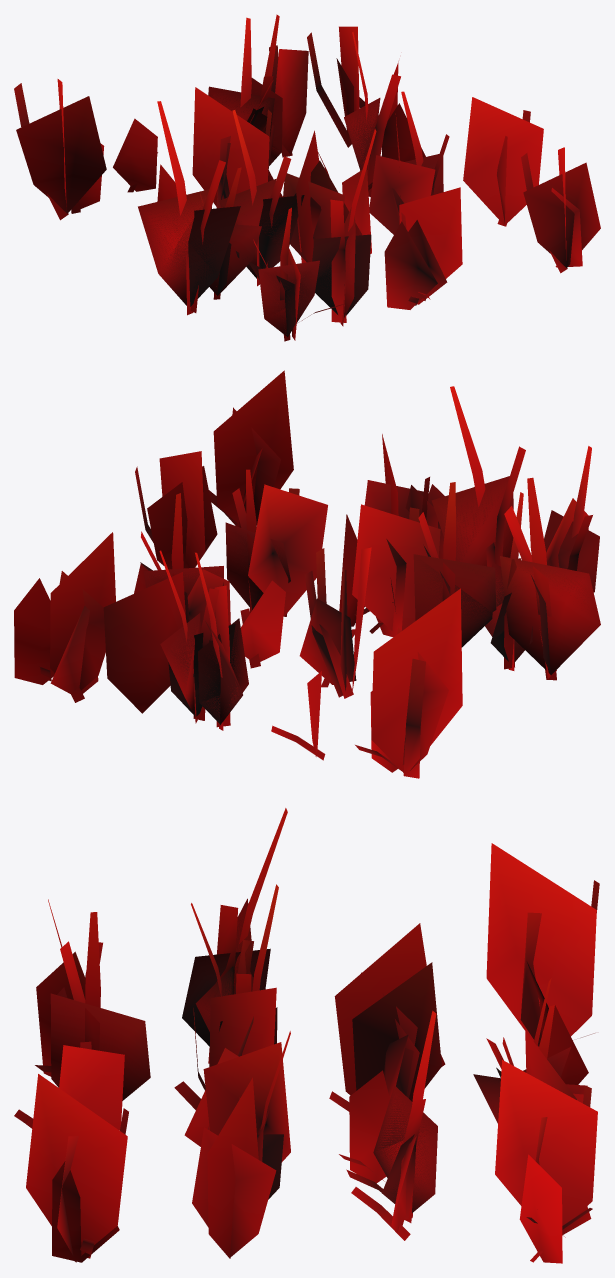
File: SM_Wheat_1.fbx
3 views of the same model, one above another, from view 1: azimuth 30°, elevation 25°; view 2: azimuth 150°, elevation 25°; view 3: azimuth 270°, elevation 25° (orthographic). The views are drawn at different scales.
Parts seen in each view (by area): view 1: SM_Wheat_1; view 2: SM_Wheat_1; view 3: SM_Wheat_1.
Part boxes in pixels (x1=…): SM_Wheat_1: x1=14, y1=14, x2=600, y2=341; SM_Wheat_1: x1=14, y1=370, x2=600, y2=778; SM_Wheat_1: x1=14, y1=808, x2=599, y2=1263.
Size of the model in its own units: 1.25 by 0.5889 by 1.22.
